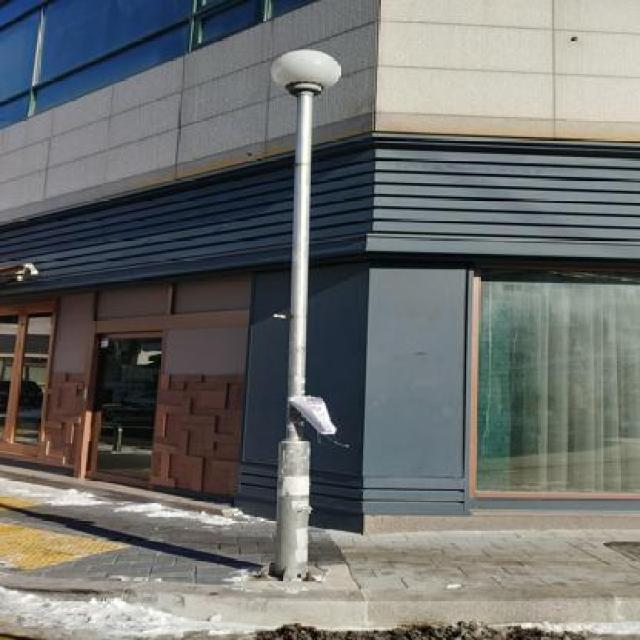pole: (242, 39, 351, 596)
